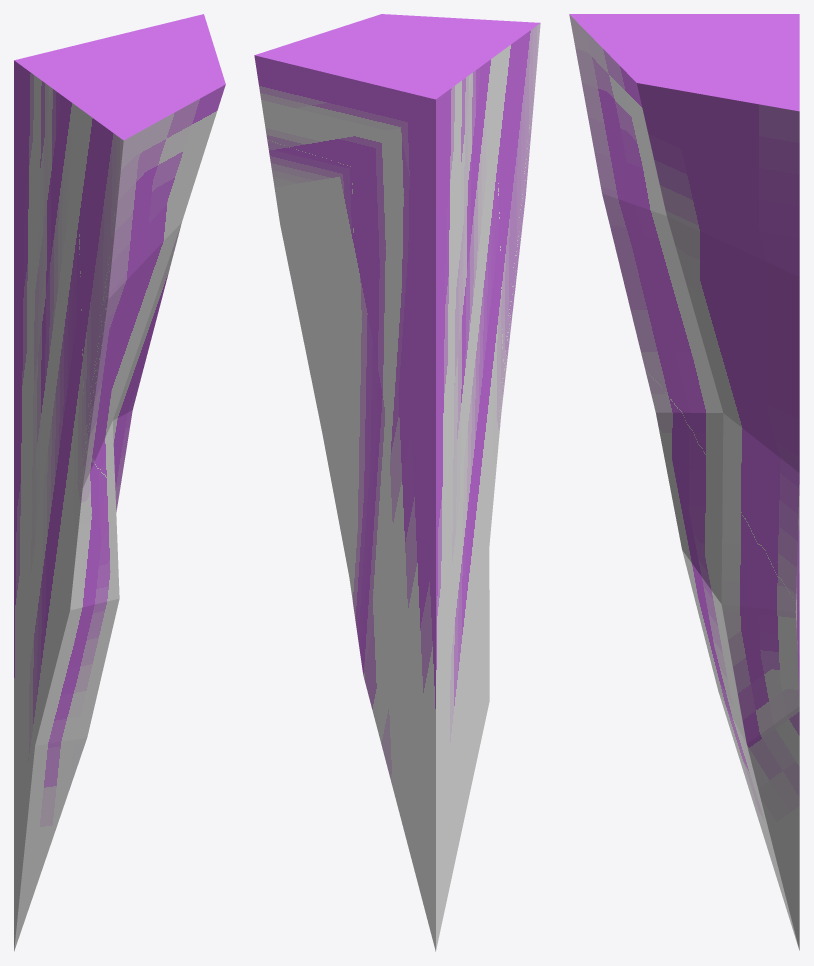
Rendered from IcicleBreak.gltf.
The picture shows the model from 3 angles, left to right: view 1: azimuth 30°, elevation 25°; view 2: azimuth 150°, elevation 25°; view 3: azimuth 270°, elevation 25°; orthographic projection. The views are drawn at different scales.
Visible parts, largest first — view 1: Icicle2; view 2: Icicle2; view 3: Icicle2.
Boxes of the visible parts, x1,y1,x2,y2 form: Icicle2: (14,14,225,951); Icicle2: (254,14,540,951); Icicle2: (569,14,799,950).
Bounding box in the file's own units: 1.09 × 4.49 × 1.
1 material, 1 textured.
